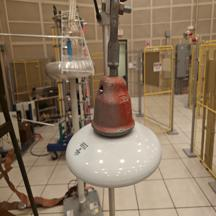insulator: (58, 68, 172, 194)
